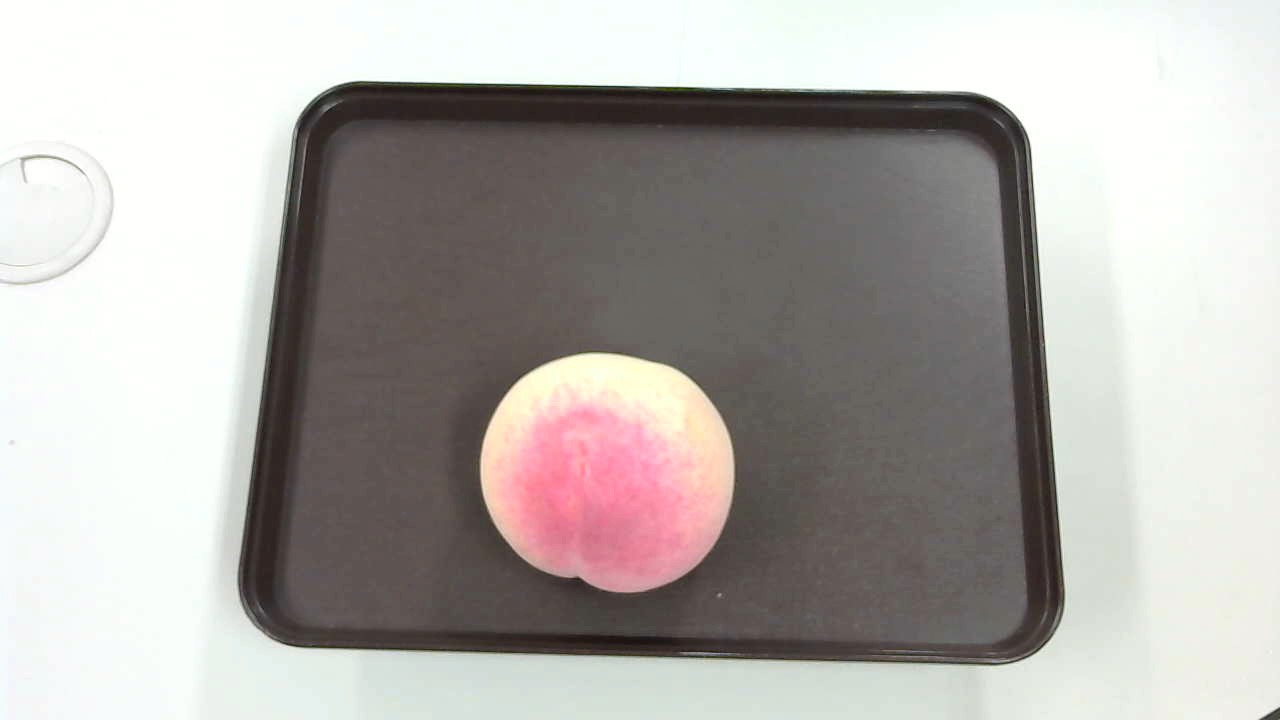peach: (476, 347, 742, 602)
